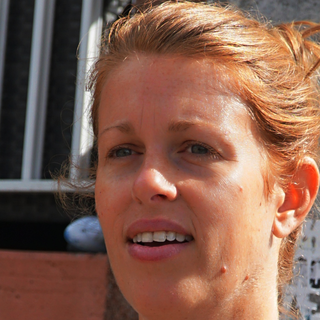eye: (169, 135, 225, 163), (101, 142, 147, 164)
